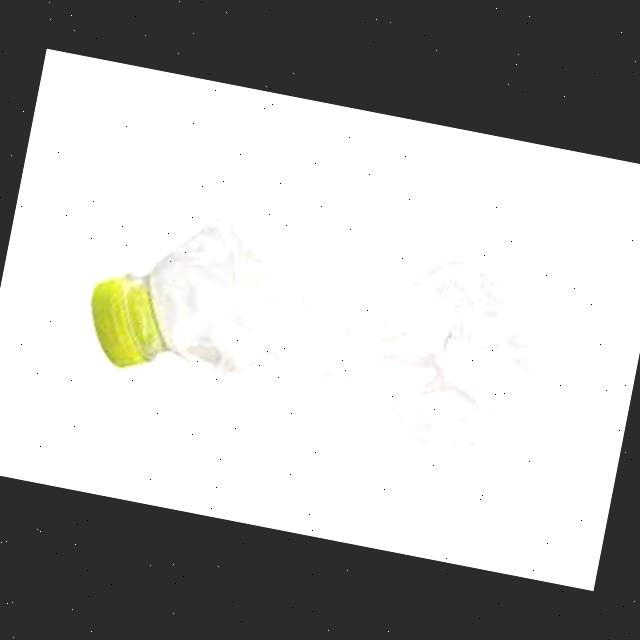trash: (76, 179, 552, 473)
